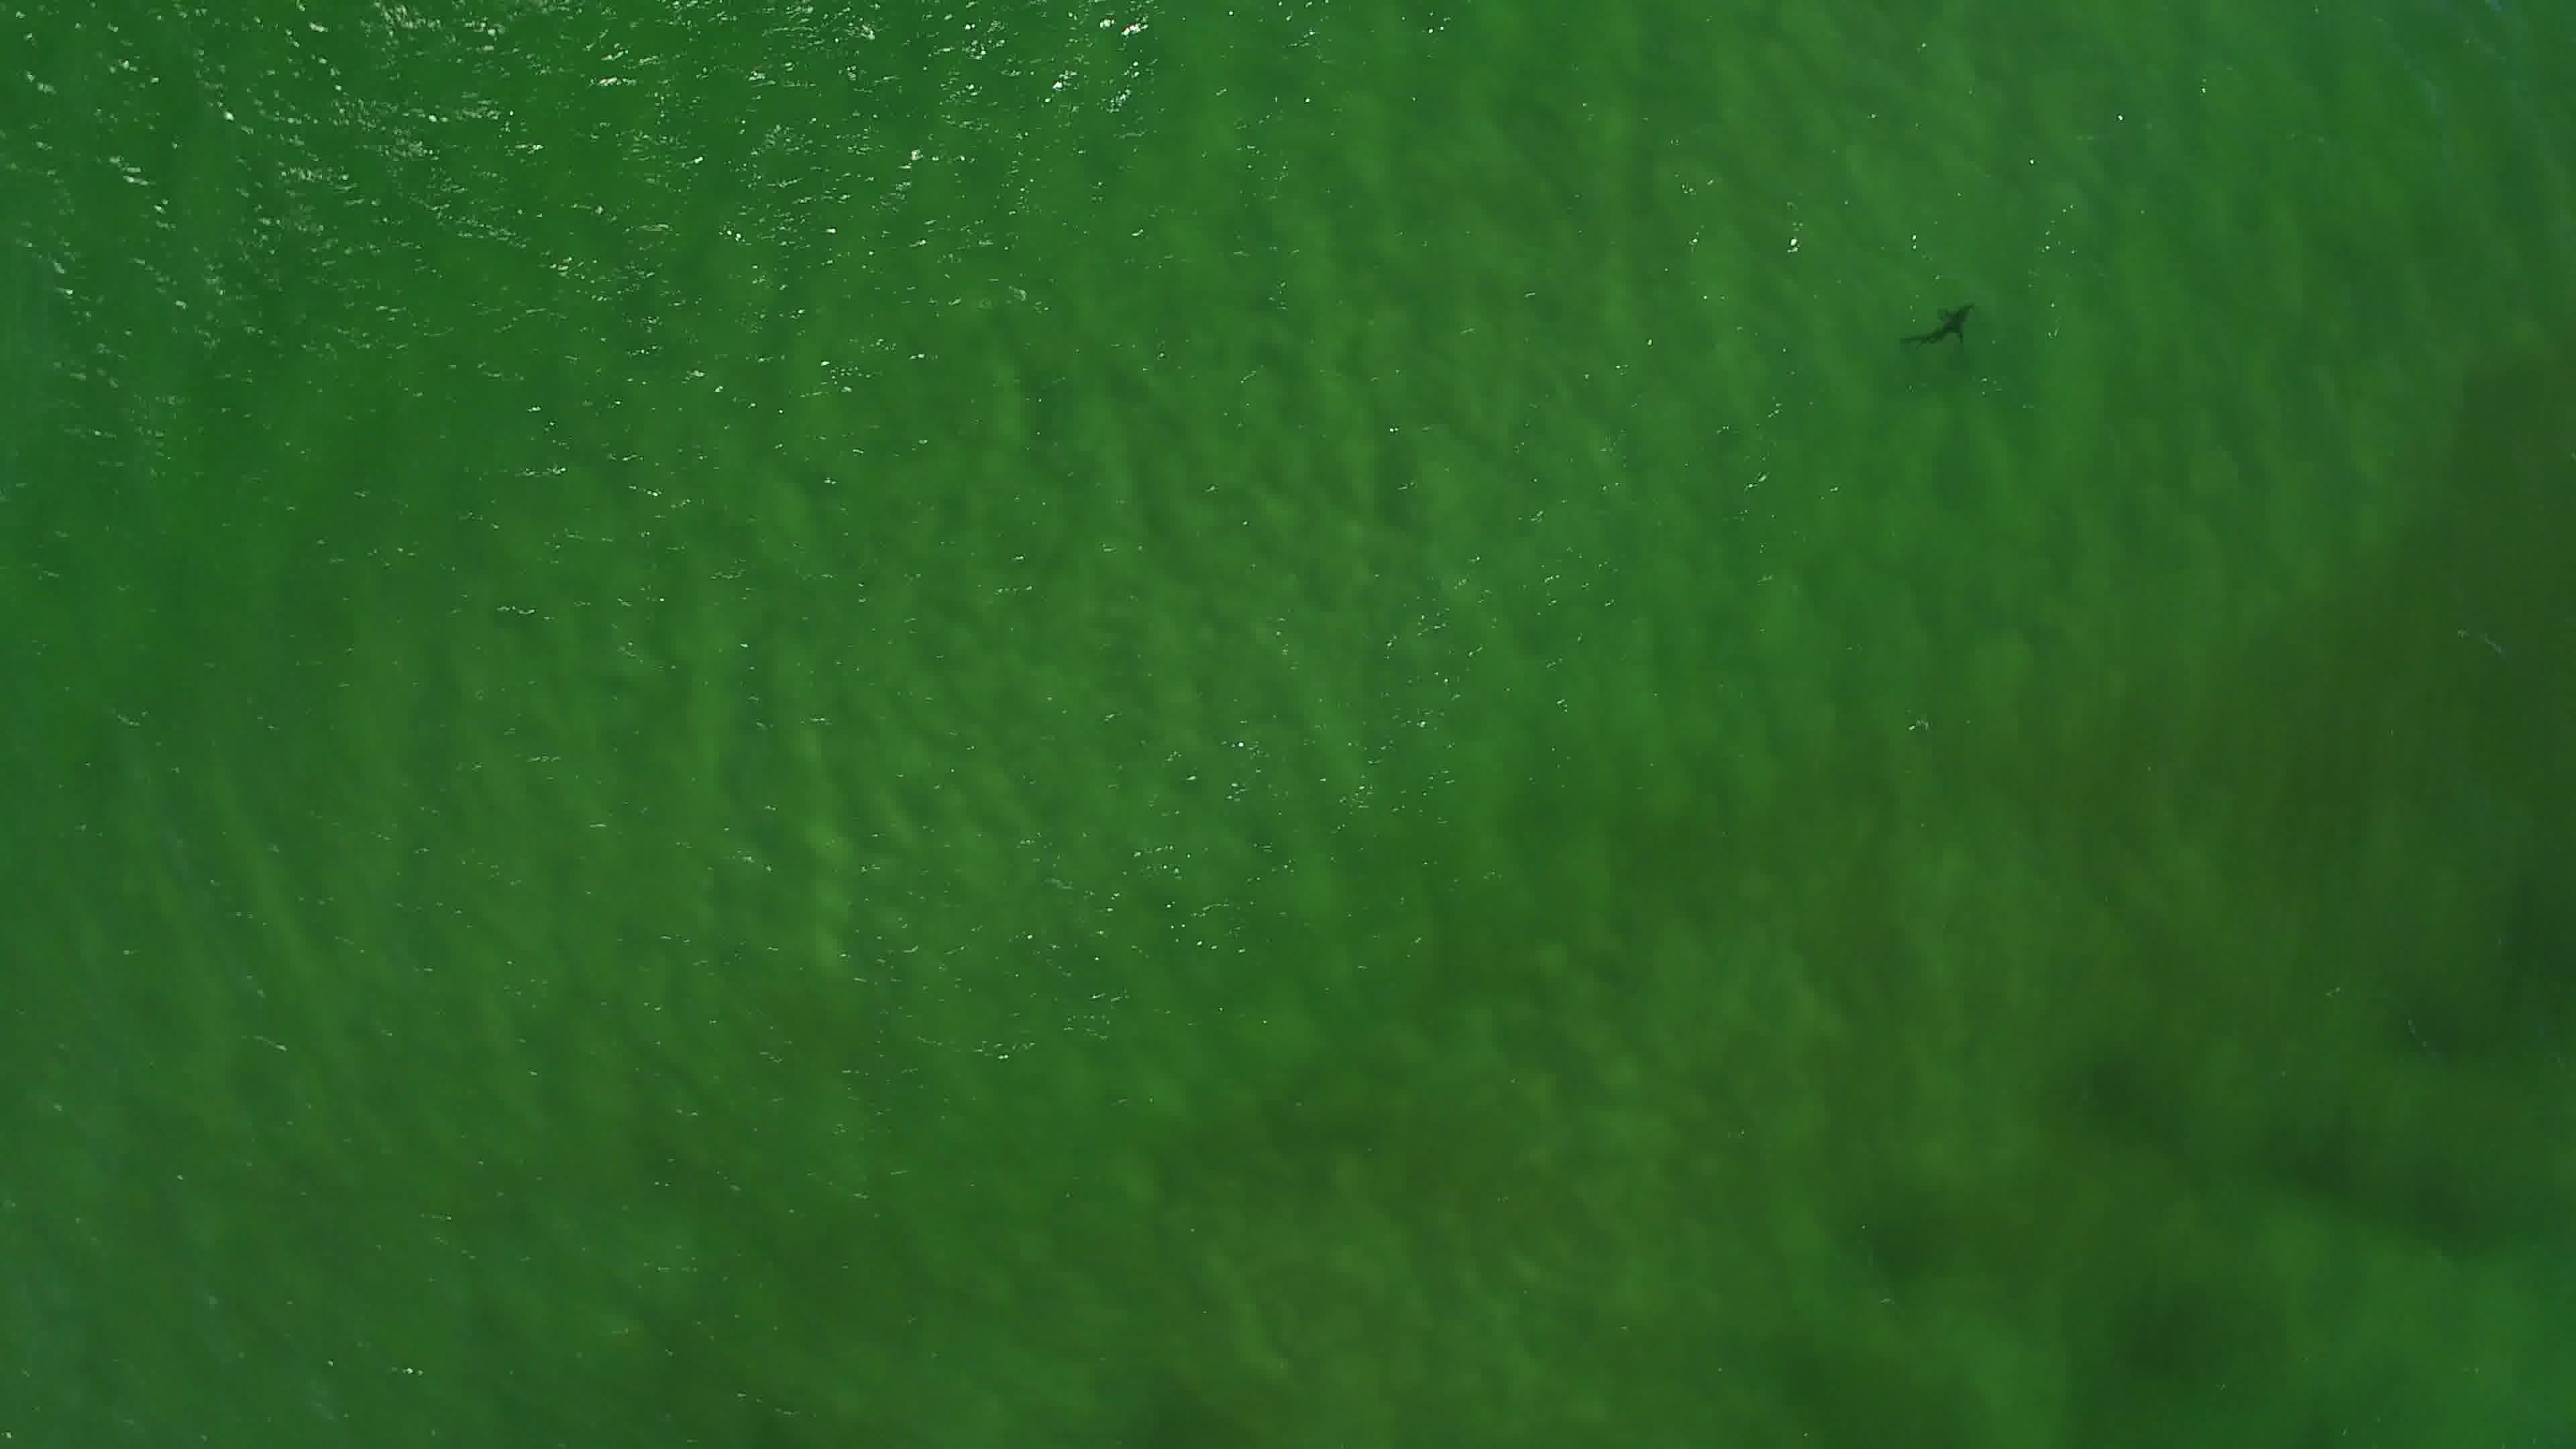shark: (1897, 292, 1980, 357)
